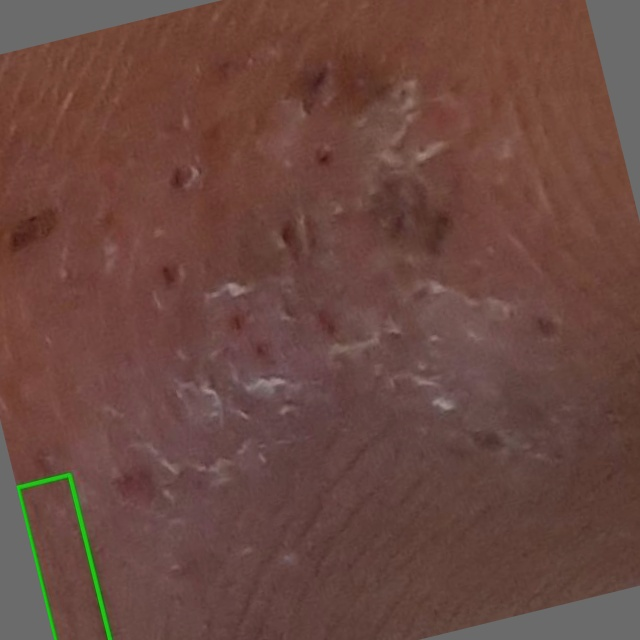Contact Dermatitis: (17, 474, 109, 639)
